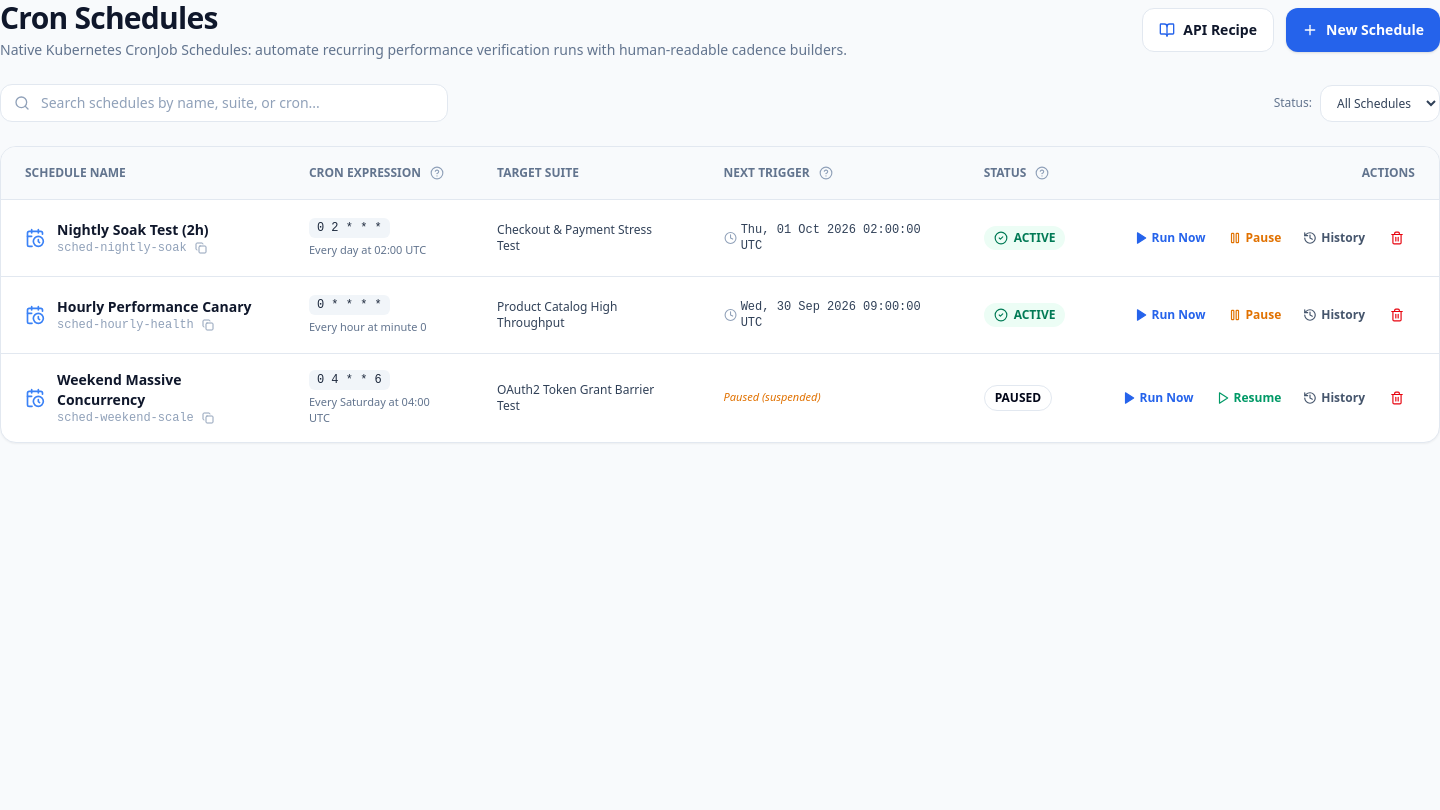
Test case: SchedulesView Component › opens execution history drawer when clicking history button
Expected: the text "Nightly Soak Test (2h)" is shown, [57,220,209,240]
What coordinates should you click on to do the following:
click the button with aria-label "view execution history"
I would click on:
 (1334, 238)
Its box is [1295,216,1373,260].
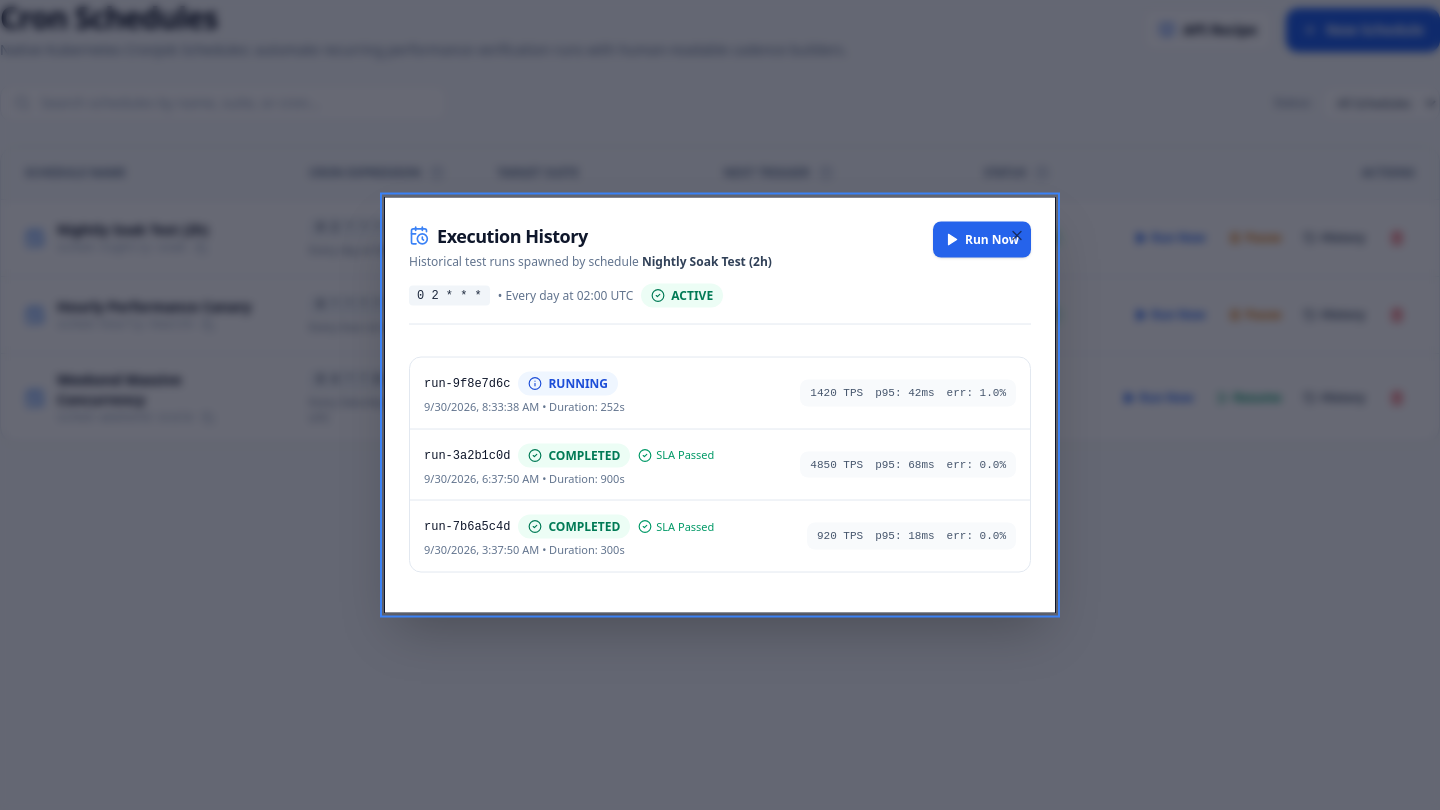
Now the heading "Execution History" is shown, box [409,224,588,248]
